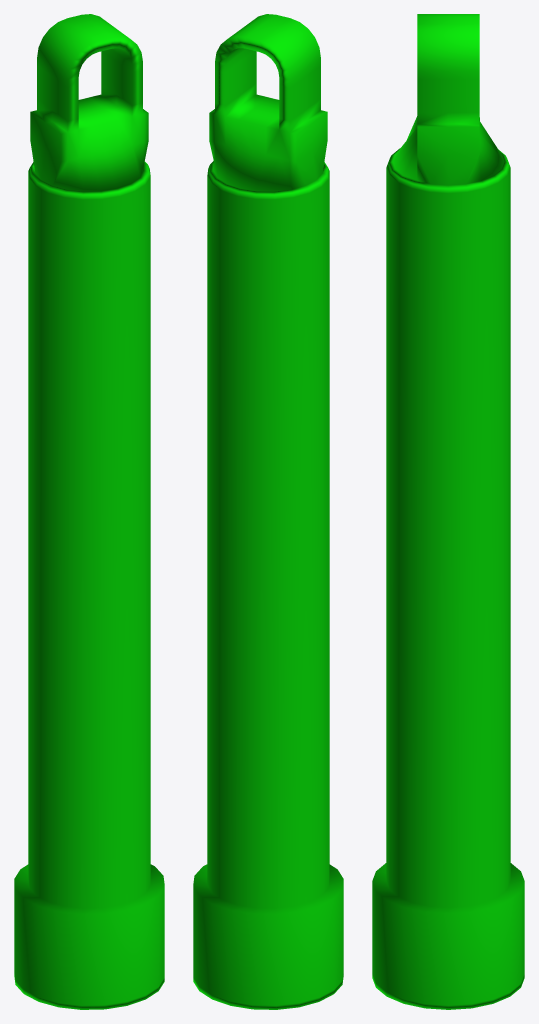
File: Glowstick_Export_03.fbx
3 renders of one model, left to right at view 1: azimuth 30°, elevation 25°; view 2: azimuth 150°, elevation 25°; view 3: azimuth 270°, elevation 25°, orthographic.
Visible parts, largest first — view 1: Glowstick_Whole_01; view 2: Glowstick_Whole_01; view 3: Glowstick_Whole_01.
Part boxes in pixels (x1=…): Glowstick_Whole_01: x1=14, y1=14, x2=164, y2=1009; Glowstick_Whole_01: x1=193, y1=14, x2=343, y2=1009; Glowstick_Whole_01: x1=372, y1=14, x2=524, y2=1009.
Bounding box in the file's own units: 2.46 × 17.03 × 2.46.
